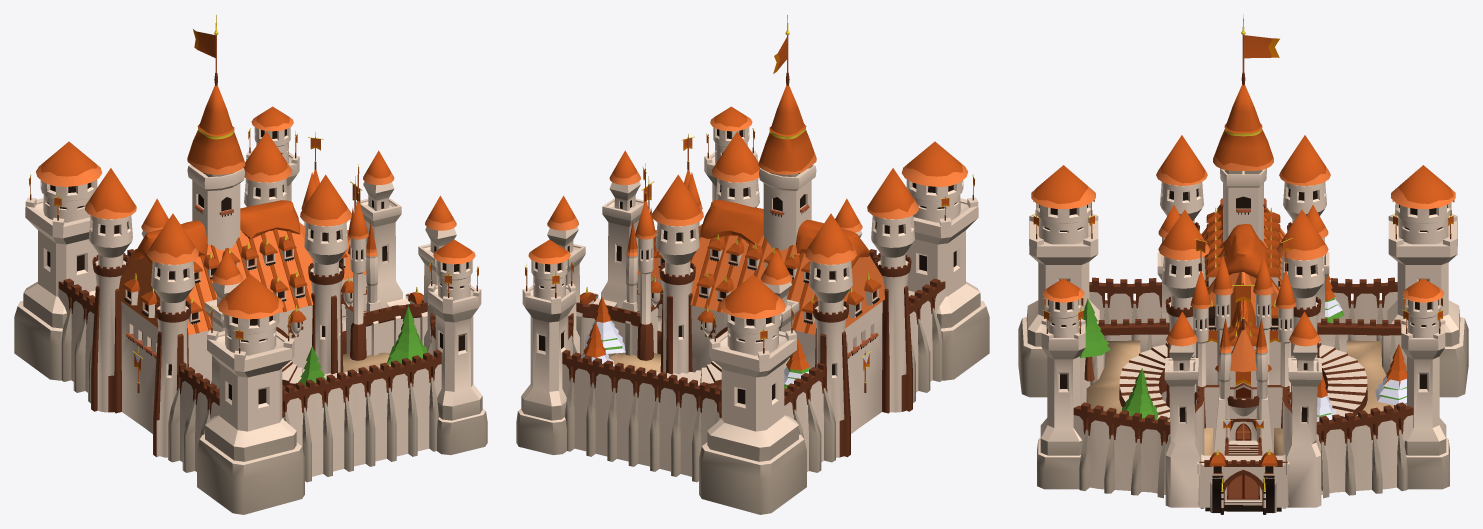
Rendered from keep-rebuilt.glb.
3 renders of one model, left to right at view 1: azimuth 30°, elevation 25°; view 2: azimuth 150°, elevation 25°; view 3: azimuth 270°, elevation 25°, orthographic.
Parts seen in each view (by area): view 1: keep_castle_corner_tower_back.L, keep_castle_great_hall, keep_castle_curtain_wall_side.L, keep_castle_corner_tower_back.R, keep_castle_corner_tower_front.L, keep_castle_hall_tower_back.R, keep_castle_hall_tower_back.L, keep_castle_spire, keep_castle_hall_tower_front.L, keep_castle_inner_gate, keep_castle_gate_tower.R, keep_castle_curtain_wall_back.R (+9 smaller); view 2: keep_castle_corner_tower_back.R, keep_castle_great_hall, keep_castle_curtain_wall_side.R, keep_castle_corner_tower_back.L, keep_castle_corner_tower_front.R, keep_castle_hall_tower_back.L, keep_castle_hall_tower_back.R, keep_castle_spire, keep_castle_hall_tower_front.R, keep_castle_inner_gate, keep_castle_gate_tower.L, keep_castle_curtain_wall_back.L (+10 smaller); view 3: keep_castle_inner_gate, keep_castle_corner_tower_back.R, keep_castle_corner_tower_back.L, keep_castle_corner_tower_front.R, keep_castle_corner_tower_front.L, keep_castle_spire, keep_castle_curtain_wall_front.L, keep_castle_curtain_wall_front.R, keep_castle_front_wing, keep_castle_gate_tower.L, keep_castle_gate_tower.R, keep_castle_great_hall (+15 smaller).
Part boxes in pixels (x1,y1,x2,y2): keep_castle_corner_tower_back.L: (197,274,304,514); keep_castle_great_hall: (119,200,313,433); keep_castle_curtain_wall_side.L: (282,349,441,482); keep_castle_corner_tower_back.R: (14,141,102,380); keep_castle_corner_tower_front.L: (427,239,487,455); keep_castle_hall_tower_back.R: (85,168,136,413); keep_castle_hall_tower_back.L: (147,213,198,462); keep_castle_spire: (187,15,245,250); keep_castle_hall_tower_front.L: (300,174,351,374); keep_castle_inner_gate: (308,132,427,360); keep_castle_gate_tower.R: (356,150,402,308); keep_castle_curtain_wall_back.R: (58,278,95,392); keep_castle_corner_tower_back.R: (699,274,806,514); keep_castle_great_hall: (690,200,884,433); keep_castle_curtain_wall_side.R: (562,349,721,482); keep_castle_corner_tower_back.L: (901,141,989,380); keep_castle_corner_tower_front.R: (516,239,576,455); keep_castle_hall_tower_back.L: (867,168,918,413); keep_castle_hall_tower_back.R: (805,213,856,462); keep_castle_spire: (758,15,816,250); keep_castle_hall_tower_front.R: (652,174,703,374); keep_castle_inner_gate: (576,133,694,360); keep_castle_gate_tower.L: (601,150,647,308); keep_castle_curtain_wall_back.L: (908,278,945,392); keep_castle_inner_gate: (1190,234,1296,474); keep_castle_corner_tower_back.R: (1381,165,1468,397); keep_castle_corner_tower_back.L: (1018,165,1105,397); keep_castle_corner_tower_front.R: (1397,278,1449,490); keep_castle_corner_tower_front.L: (1037,278,1089,490); keep_castle_spire: (1213,14,1279,241); keep_castle_curtain_wall_front.L: (1073,402,1170,495); keep_castle_curtain_wall_front.R: (1316,402,1413,495); keep_castle_front_wing: (1206,255,1280,440); keep_castle_gate_tower.L: (1157,311,1199,507); keep_castle_gate_tower.R: (1287,311,1329,507); keep_castle_great_hall: (1201,204,1285,384).
Size of the model in its own units: 4.89 by 5.77 by 6.
1 material, 1 textured.
